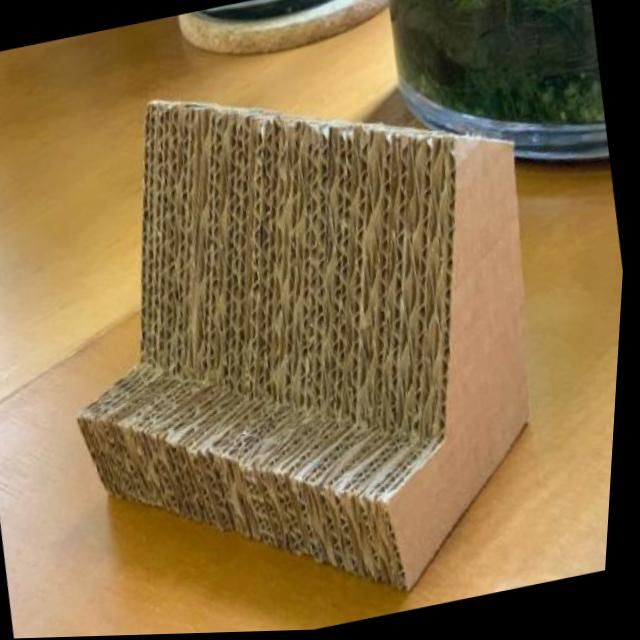box: (7, 10, 612, 632)
